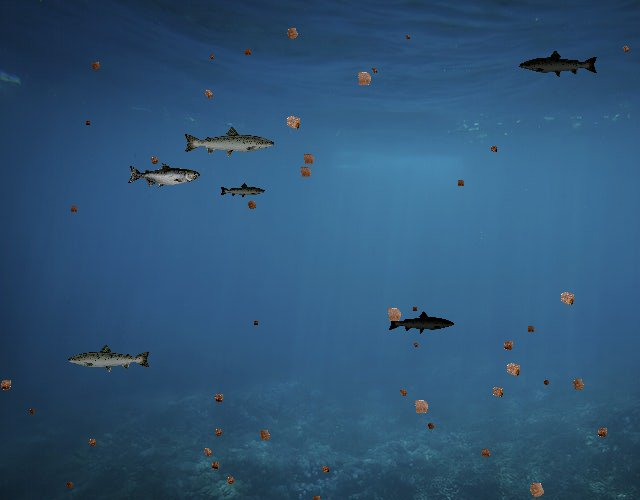Fish: (183, 126, 277, 160), (66, 343, 152, 374), (519, 50, 600, 79), (128, 162, 201, 189), (387, 311, 455, 335), (220, 183, 267, 200)
Pellet: (84, 434, 100, 450), (486, 142, 501, 156), (540, 376, 553, 389), (206, 52, 216, 62)
